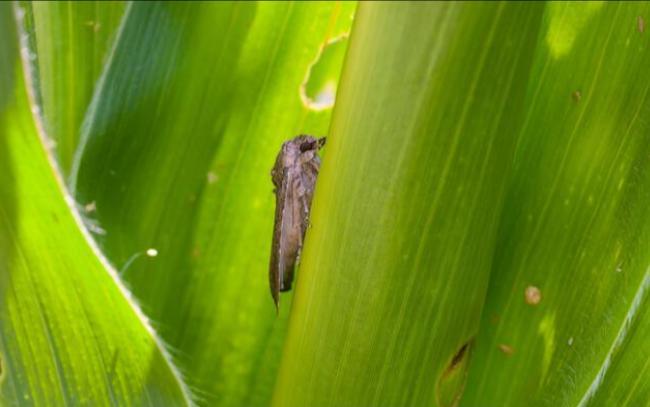army worm adult: (251, 125, 329, 311)
